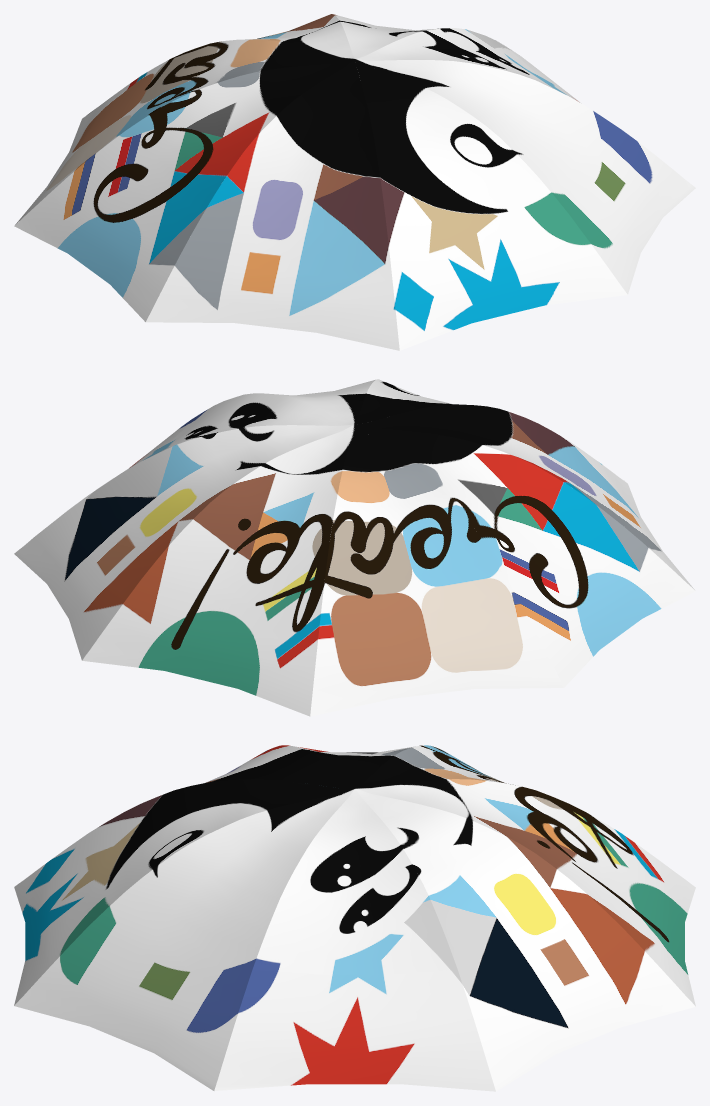
The model's file is UmbrellaTexture_V001.gltf.
3 views of the same model, one above another, from view 1: azimuth 30°, elevation 25°; view 2: azimuth 150°, elevation 25°; view 3: azimuth 270°, elevation 25° (orthographic). The views are drawn at different scales.
Visible parts, largest first — view 1: paintp_mat242_Plane.001; view 2: paintp_mat242_Plane.001; view 3: paintp_mat242_Plane.001.
Boxes of the visible parts, <box> form: paintp_mat242_Plane.001: <box>14,14,695,350</box>; paintp_mat242_Plane.001: <box>14,379,695,716</box>; paintp_mat242_Plane.001: <box>14,745,695,1091</box>.
Size of the model in its own units: 1.02 by 0.2632 by 1.02.
Materials: 1 (1 with a texture image).
